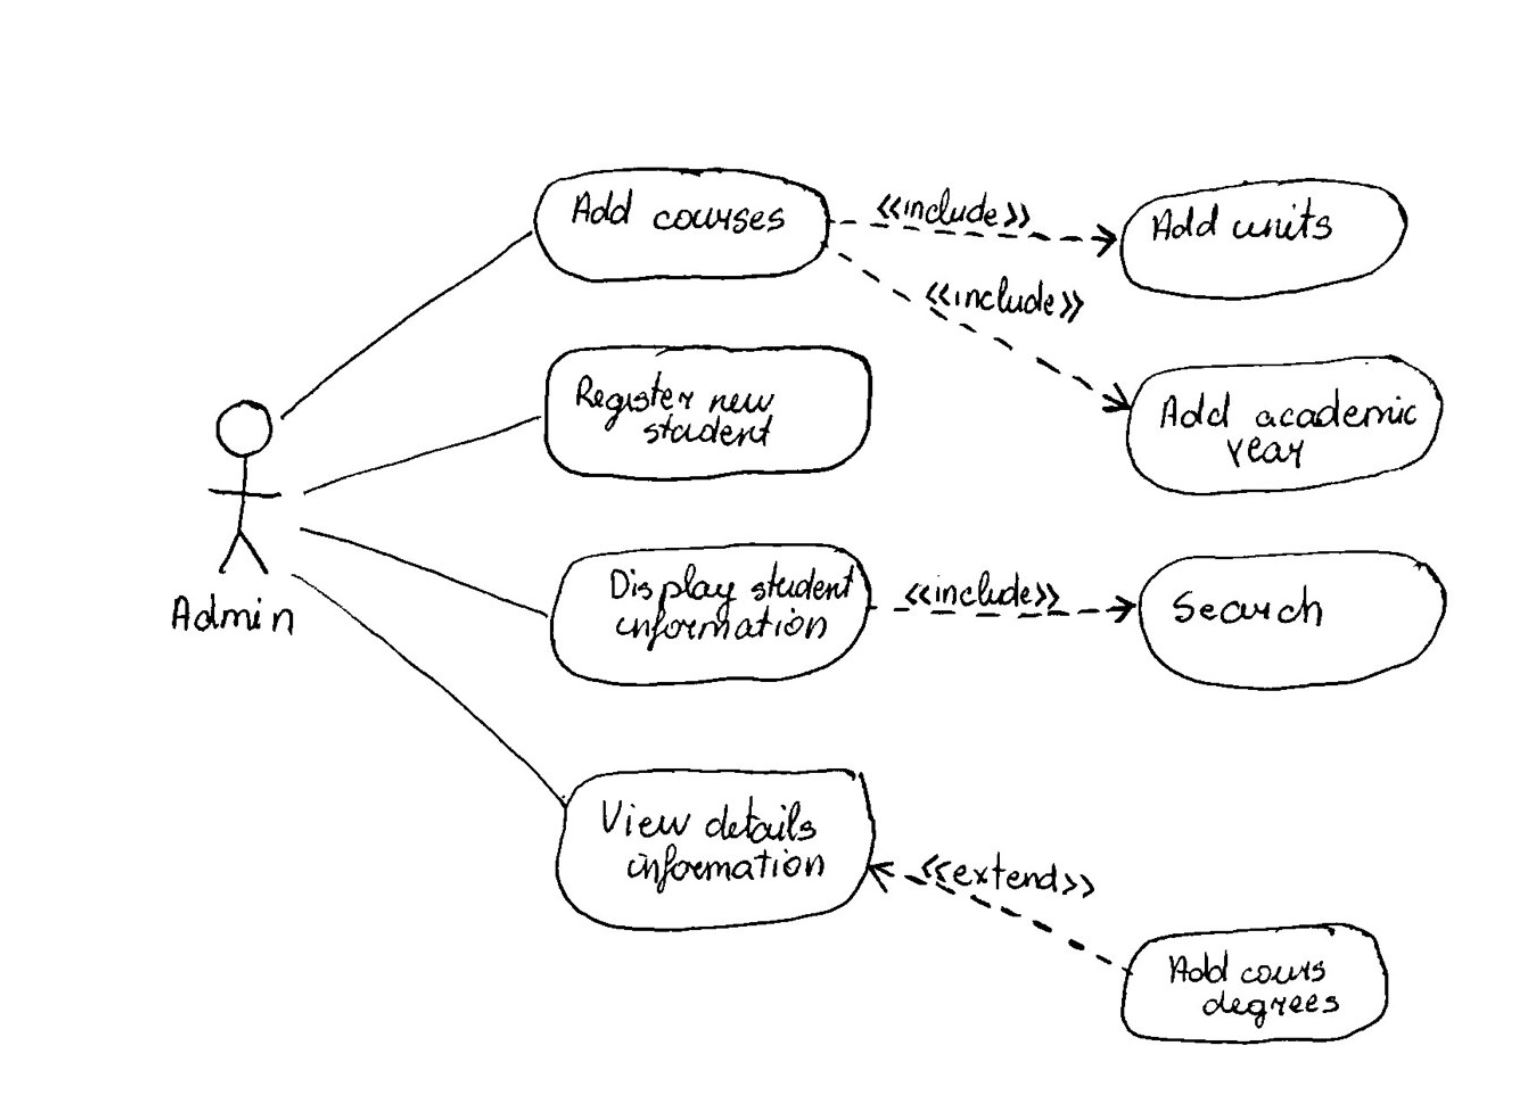actor: (197, 397, 285, 580)
association: (294, 573, 564, 803), (836, 251, 1131, 417), (280, 229, 532, 418), (869, 859, 1129, 971), (300, 525, 552, 618), (302, 412, 537, 497), (835, 217, 1115, 261), (876, 591, 1137, 631)
text: (592, 792, 839, 899), (1150, 381, 1421, 470), (598, 560, 855, 648), (565, 369, 789, 455), (1163, 945, 1350, 1032), (567, 184, 797, 245), (1164, 572, 1335, 642), (915, 847, 1112, 901), (152, 585, 310, 642), (922, 273, 1089, 326), (1148, 204, 1338, 249), (904, 567, 1068, 614), (872, 185, 1033, 231)
use_case: (554, 767, 875, 935), (540, 340, 875, 486), (546, 540, 875, 688), (1125, 353, 1445, 498), (1136, 548, 1451, 694), (532, 161, 833, 282), (1119, 178, 1408, 304), (1117, 920, 1391, 1047)
